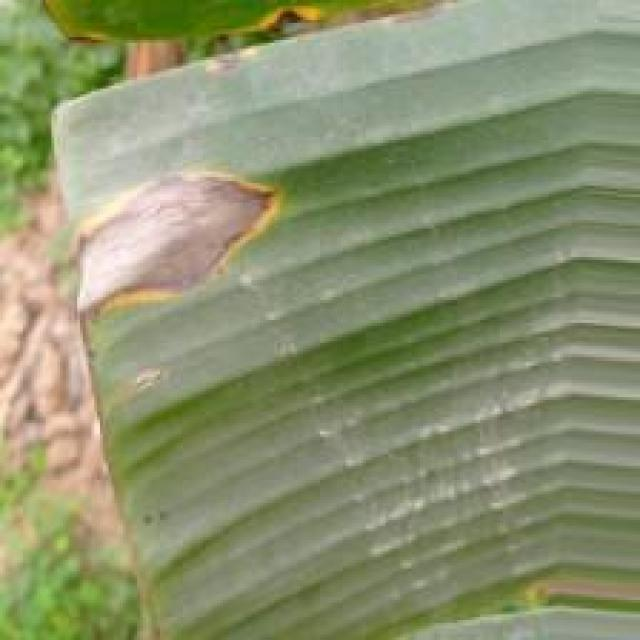Bacterial_spot: (58, 161, 292, 325), (514, 560, 640, 611), (114, 348, 184, 420), (248, 1, 337, 32), (59, 28, 110, 52)
